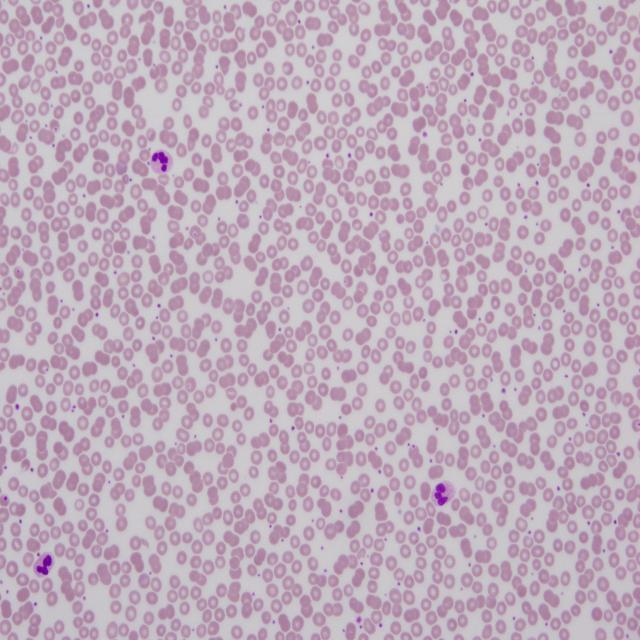cell: (431, 481, 455, 505)
